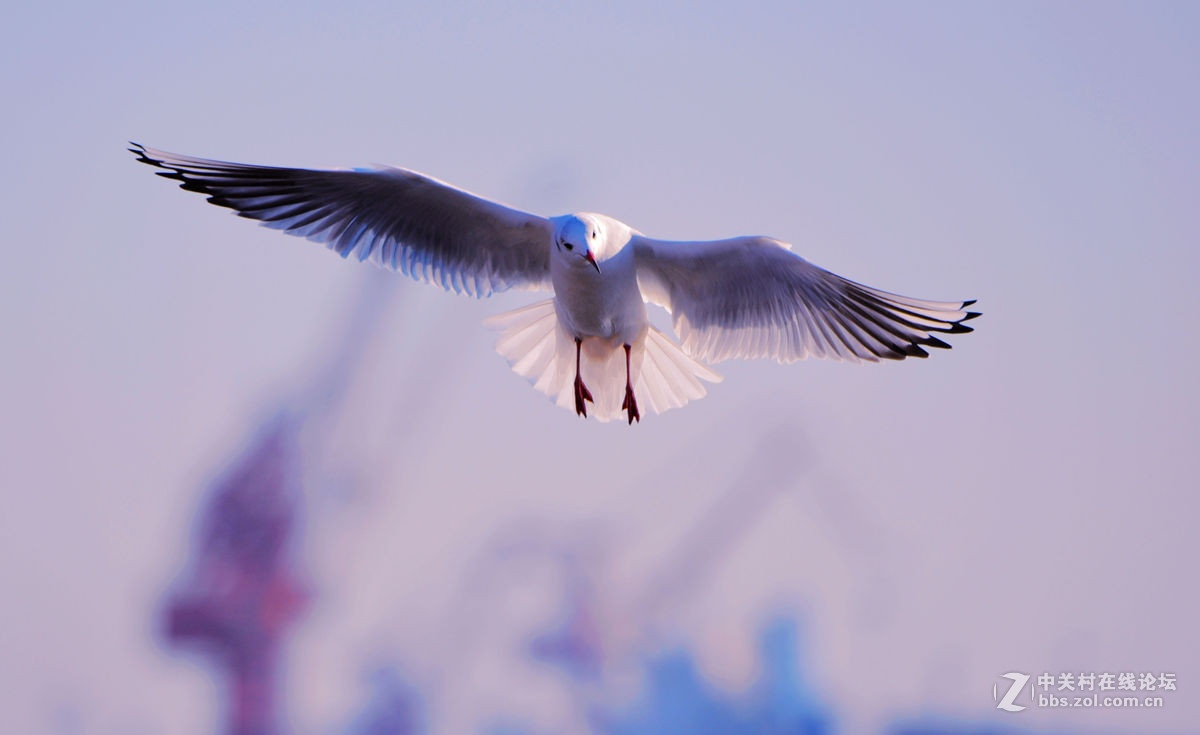bird: (115, 137, 981, 424)
